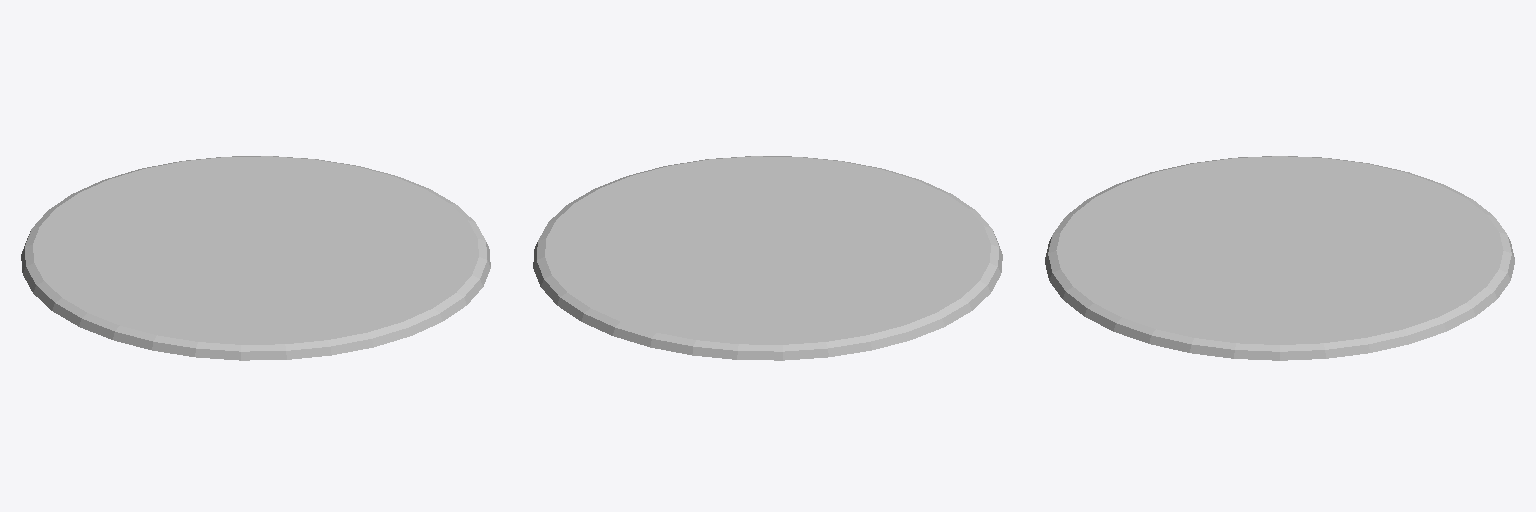
The model's file is carpet_round_small.obj.
The picture shows the model from 3 angles: view 1: azimuth 30°, elevation 25°; view 2: azimuth 150°, elevation 25°; view 3: azimuth 270°, elevation 25°; orthographic projection.
Parts seen in each view (by area): view 1: carpet_round_small; view 2: carpet_round_small; view 3: carpet_round_small.
Part boxes in pixels (x1,y1,x2,y2): carpet_round_small: (21, 156, 490, 360); carpet_round_small: (533, 156, 1002, 360); carpet_round_small: (1045, 156, 1514, 360).
Bounding box in the file's own units: 2 × 0.05 × 2.